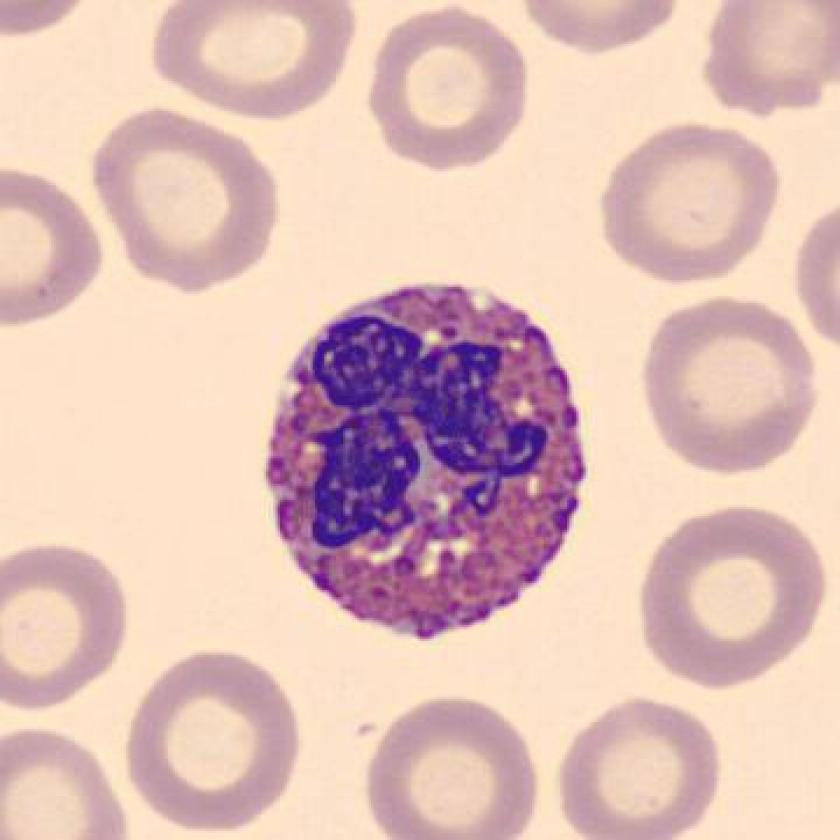eosinophil: (253, 270, 598, 654)
